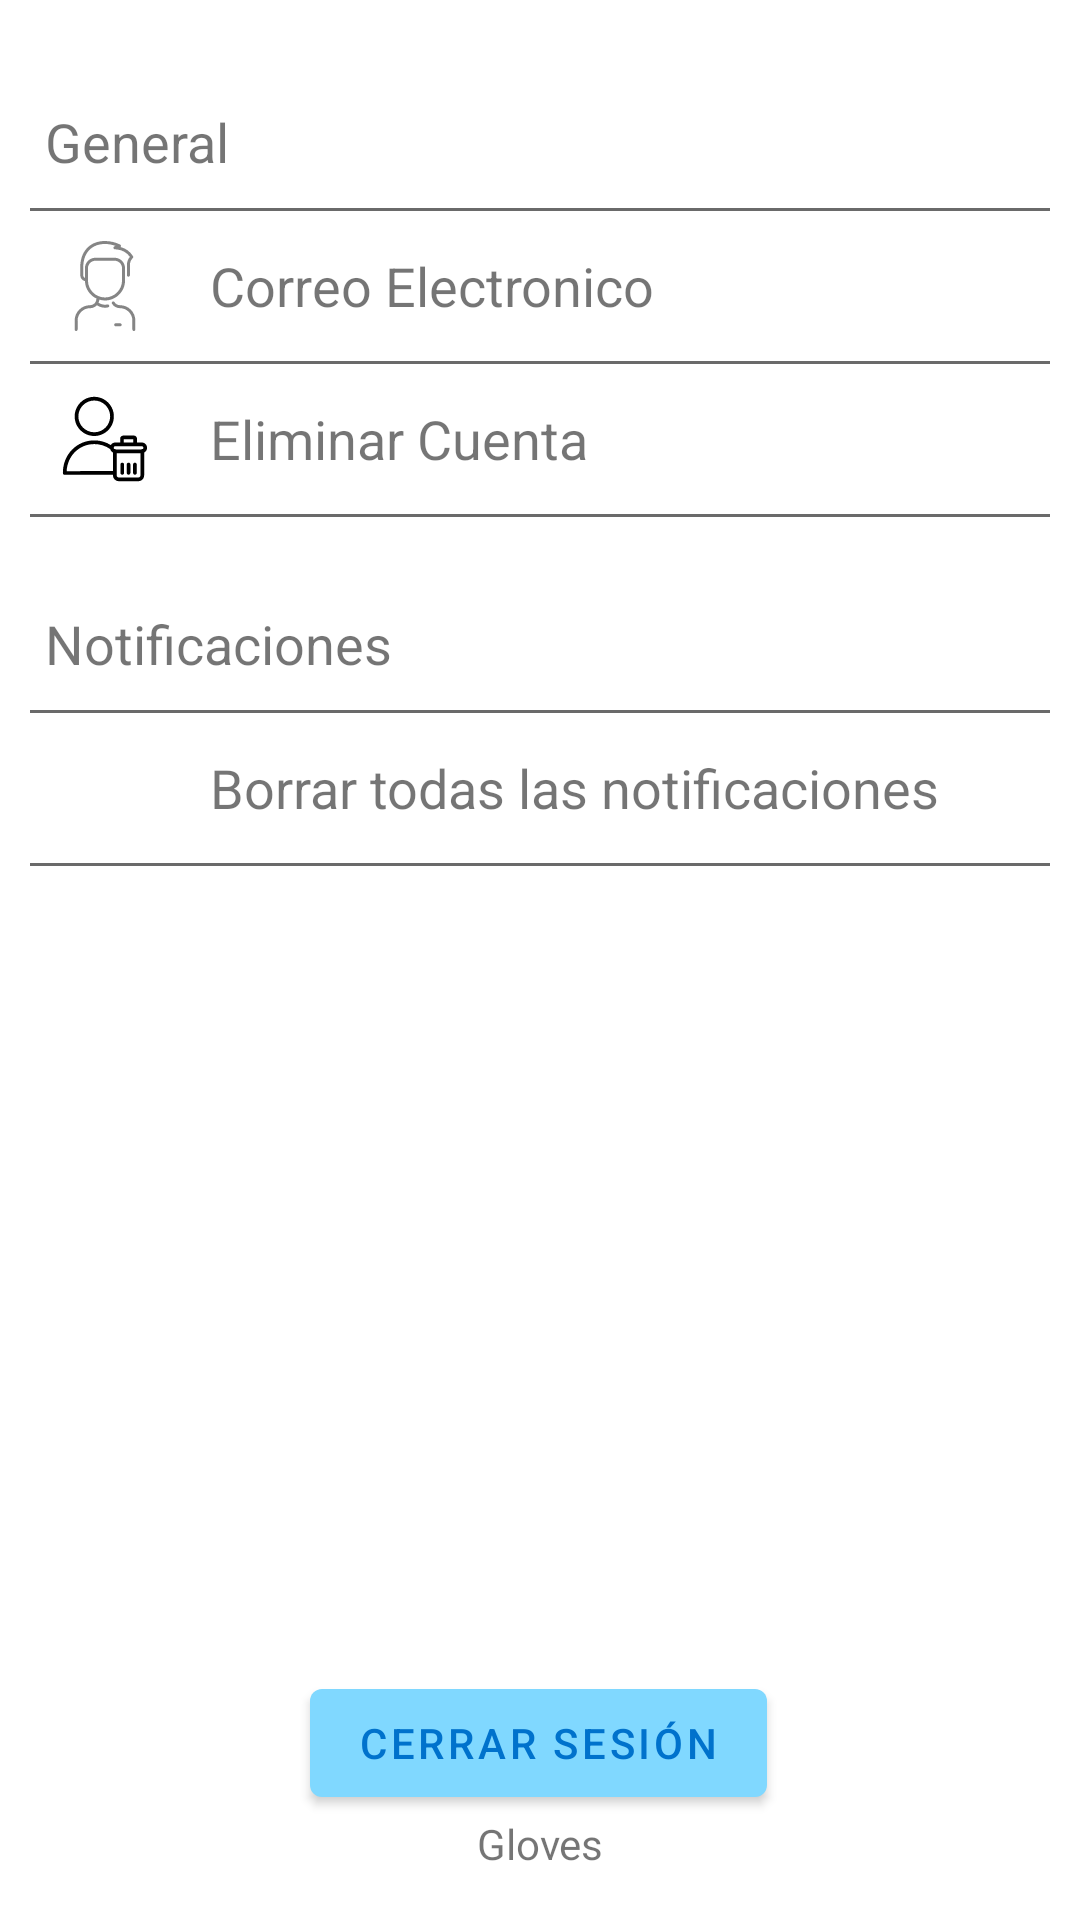

Where to tap for icons on this 1080w x 1920h app screen, as [x,y]:
delete user: [105,439]
profile: [105,286]
